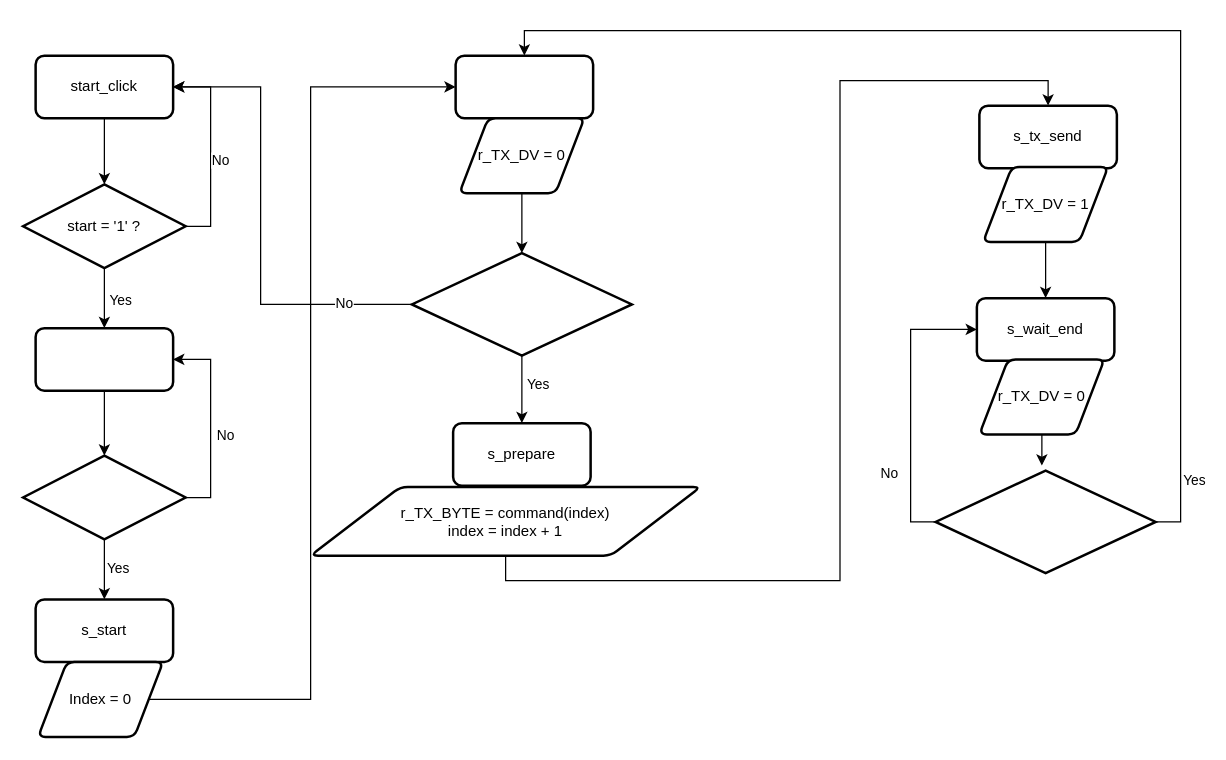
Image size: 1226x760. Some labels were removed from this diagram. Each missing label, with the centre of its shape:
index <= lenght ?: the point at 521,303
s_check_tx: the point at 524,86
start = '0' ?: the point at 103,497
w_TX_DONE = 1 ?: the point at 1045,521
wait_unclick: the point at 104,358
